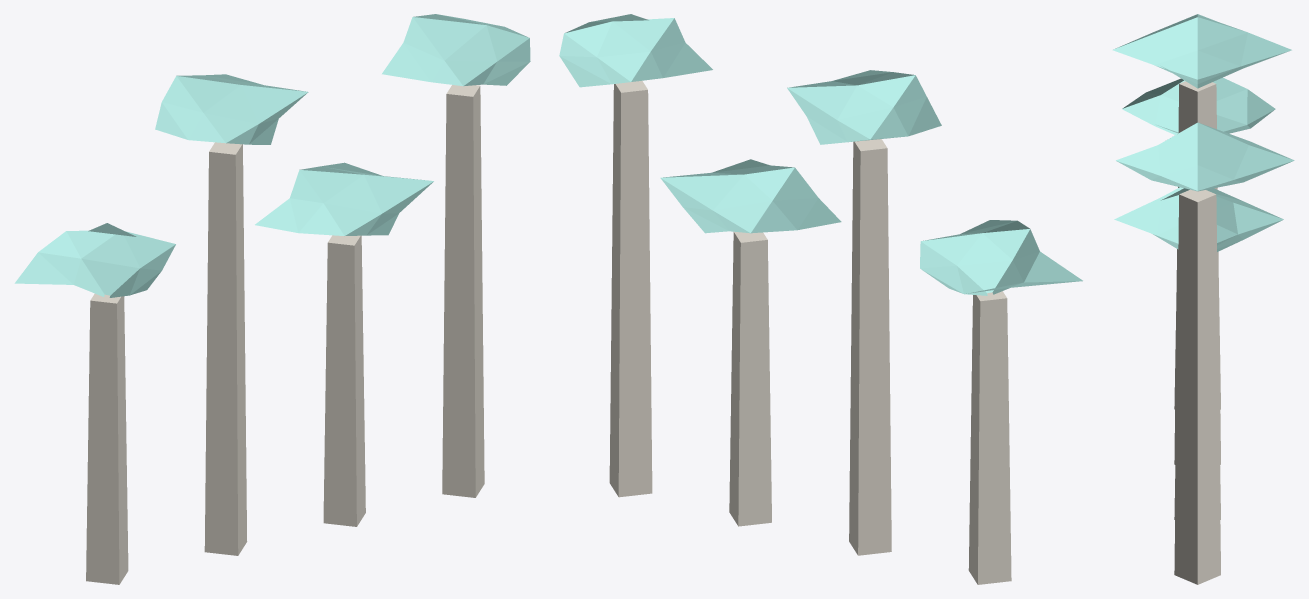
Rendered from glowcap_v05.glb.
3 renders of one model, left to right at view 1: azimuth 30°, elevation 25°; view 2: azimuth 150°, elevation 25°; view 3: azimuth 270°, elevation 25°, orthographic. The views are drawn at different scales.
Parts seen in each view (by area): view 1: lod0; view 2: lod0; view 3: lod0.
Boxes of the visible parts, box(x1,y1,x2,y2) form: lod0: box(14, 14, 530, 584); lod0: box(559, 14, 1082, 584); lod0: box(1112, 14, 1294, 584).
Size of what is drawn, in the model's own units: 0.6078 by 0.5326 by 0.1958.
